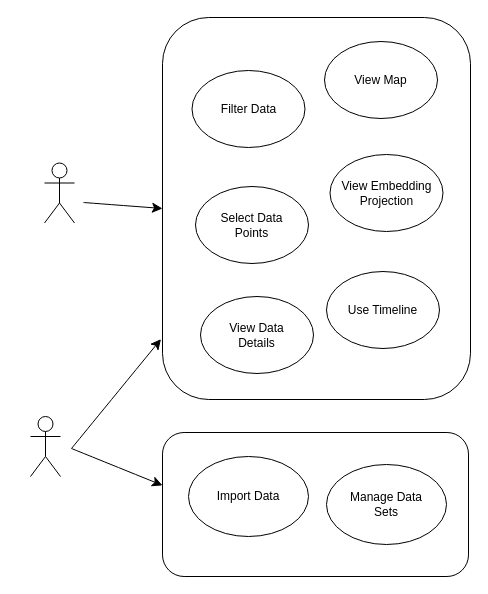
This 488x594 diagram has some shape labels left out. The shapes that lost their labels are listed below. From the top down, each one's centre as x and y in pixels, then its label:
At [59,192]: "User".
At [45,446]: "Authorized User".
